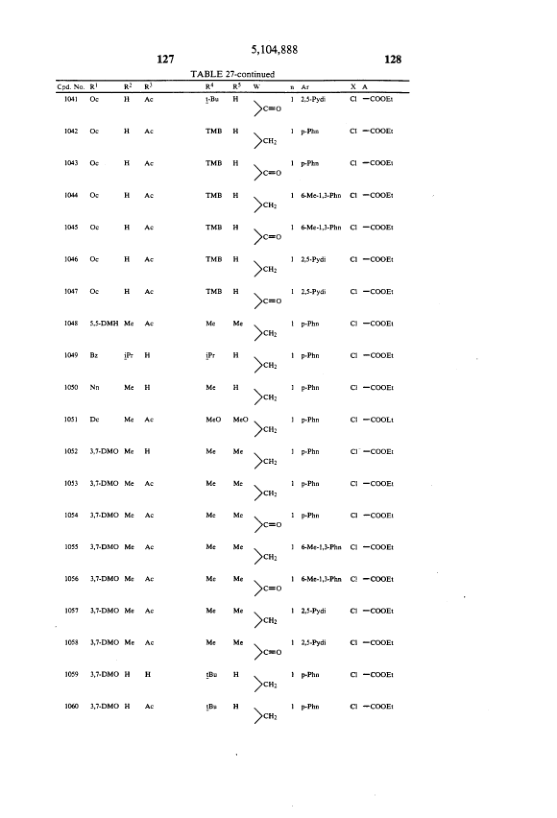compound-structure: (245, 96, 284, 122), (349, 571, 394, 590), (347, 123, 397, 140), (251, 160, 283, 185), (348, 635, 398, 651), (249, 641, 280, 666), (250, 225, 283, 248), (249, 291, 282, 313), (251, 481, 279, 506), (250, 355, 283, 376), (250, 386, 278, 410), (350, 665, 398, 679), (349, 222, 399, 235), (250, 130, 278, 153), (252, 576, 282, 597), (348, 94, 396, 107), (252, 610, 281, 631), (351, 604, 394, 618), (347, 479, 397, 491), (252, 545, 277, 569), (252, 419, 278, 442), (251, 257, 279, 278), (345, 156, 393, 168), (349, 255, 397, 267), (251, 193, 277, 215), (252, 450, 278, 471), (251, 706, 277, 727), (348, 317, 396, 328), (254, 515, 283, 533), (250, 322, 276, 342), (346, 350, 393, 361), (349, 700, 396, 711), (349, 190, 397, 200), (347, 512, 395, 522), (351, 445, 394, 456), (250, 675, 276, 693), (351, 382, 395, 392), (348, 416, 395, 425), (349, 542, 393, 551), (351, 287, 394, 295)
